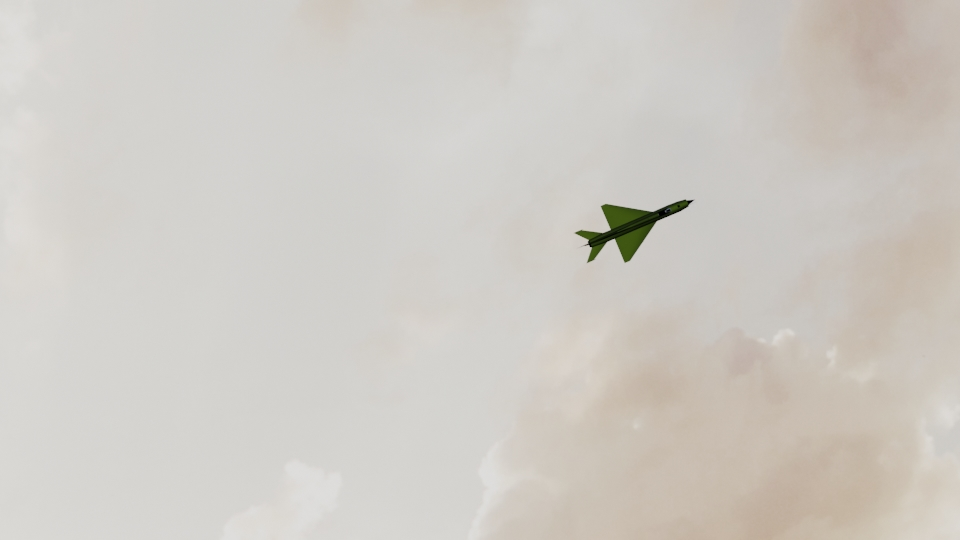plane: (573, 198, 695, 262)
